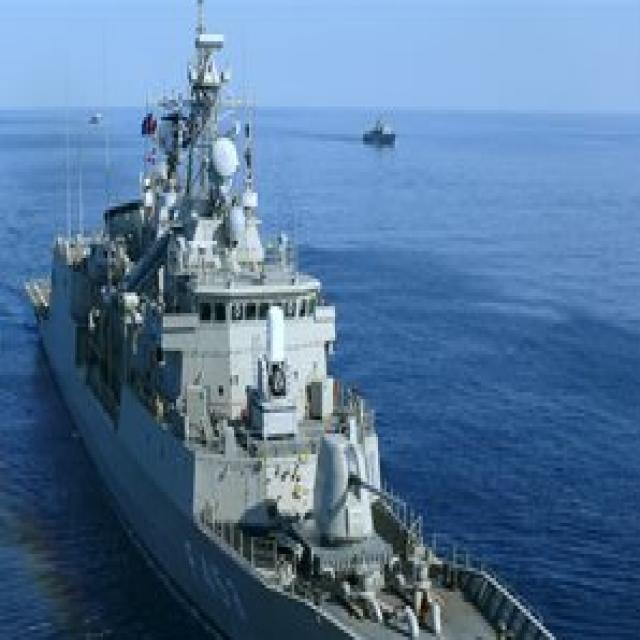Fragata: (18, 1, 605, 640)
